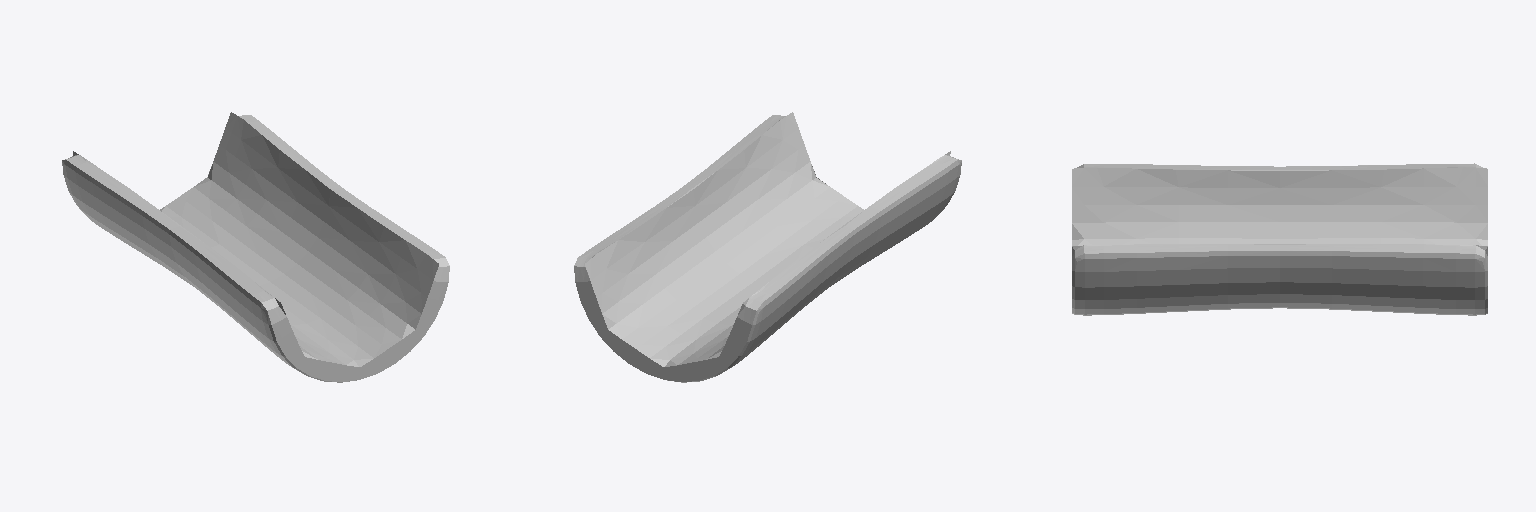
File: collamon.obj
3 renders of one model, left to right at view 1: azimuth 30°, elevation 25°; view 2: azimuth 150°, elevation 25°; view 3: azimuth 270°, elevation 25°, orthographic.
Visible parts, largest first — view 1: polySurface1; view 2: polySurface1; view 3: polySurface1.
Boxes of the visible parts, <box> form: polySurface1: <box>62,112,449,382</box>; polySurface1: <box>574,112,961,382</box>; polySurface1: <box>1072,163,1487,315</box>.
Bounding box in the file's own units: 2.19 × 1.12 × 4.25.